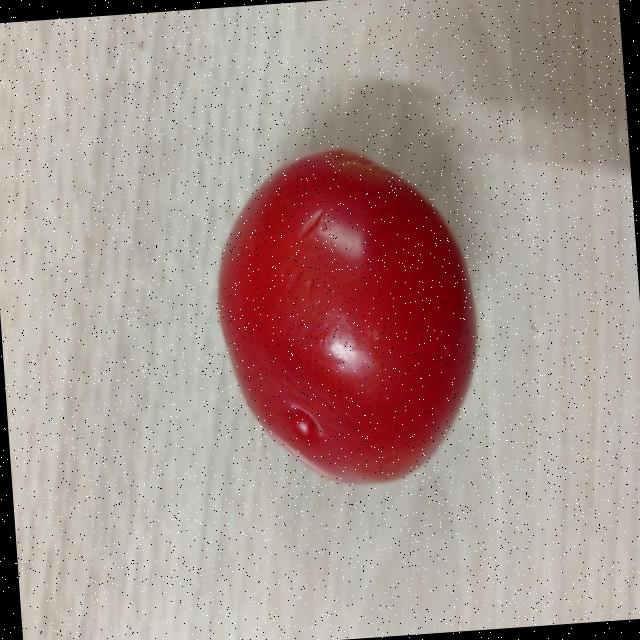Ripe: (204, 136, 491, 495)
